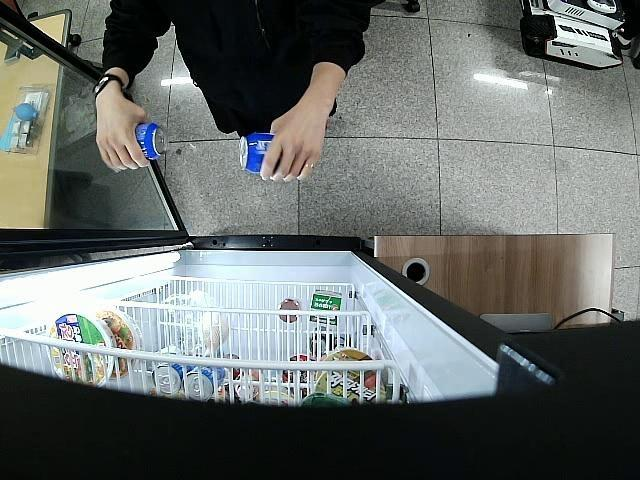13_pocariSweat: (238, 132, 276, 175), (134, 122, 168, 161)
